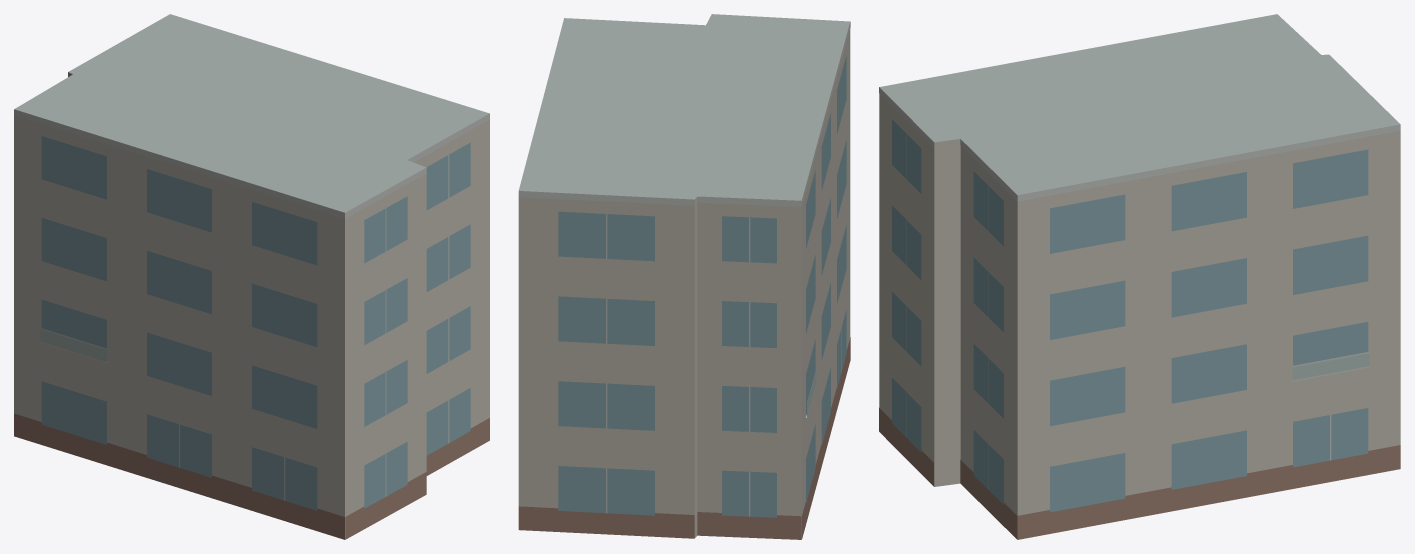
The model's file is survey-upis-32582934.glb.
The picture shows the model from 3 angles, left to right: view 1: azimuth 30°, elevation 25°; view 2: azimuth 150°, elevation 25°; view 3: azimuth 270°, elevation 25°; orthographic projection. The views are drawn at different scales.
Parts seen in each view (by area): view 1: survey-upis-32582934.tmp; view 2: survey-upis-32582934.tmp; view 3: survey-upis-32582934.tmp.
Boxes of the visible parts, x1,y1,x2,y2 form: survey-upis-32582934.tmp: (14,14,489,539); survey-upis-32582934.tmp: (518,14,850,539); survey-upis-32582934.tmp: (879,14,1400,539).
Size of the model in its own units: 14.95 by 13.25 by 18.18.
